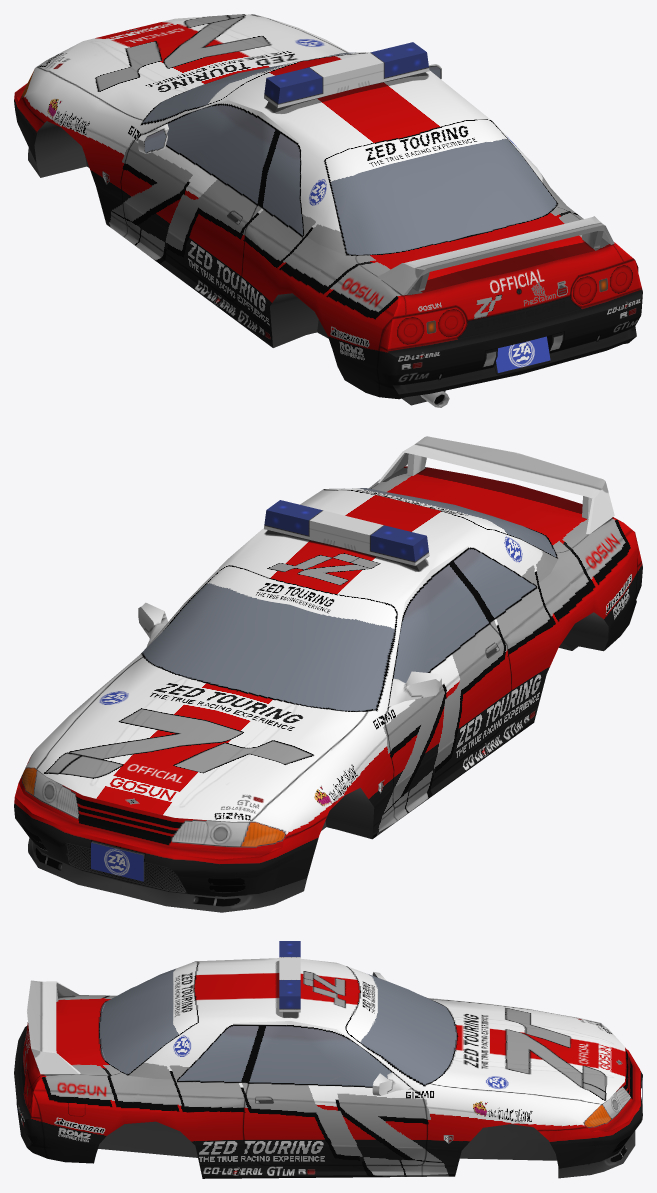
The model's file is vehicles_fhqR32GTRPace.fbx.
3 renders of one model, top to bottom at view 1: azimuth 30°, elevation 25°; view 2: azimuth 150°, elevation 25°; view 3: azimuth 270°, elevation 25°, orthographic. The views are drawn at different scales.
Visible parts, largest first — view 1: fhqR32PacecarExport2; view 2: fhqR32PacecarExport2; view 3: fhqR32PacecarExport2.
Boxes of the visible parts, left/top/right/bottom form: fhqR32PacecarExport2: left=14, top=14, right=642, bottom=407; fhqR32PacecarExport2: left=14, top=436, right=642, bottom=912; fhqR32PacecarExport2: left=14, top=941, right=642, bottom=1178.
Bounding box in the file's own units: 2.31 × 1.54 × 5.43.
